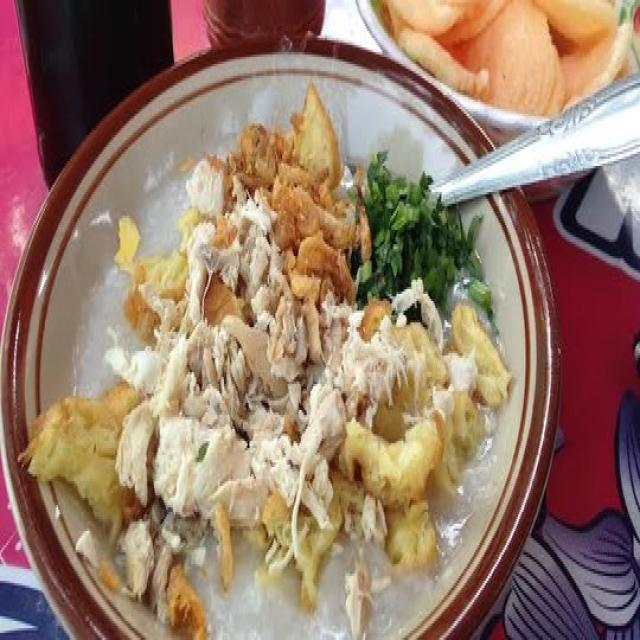bubur ayam: (71, 92, 509, 638)
mangkuk: (4, 34, 565, 639), (356, 0, 639, 130)
